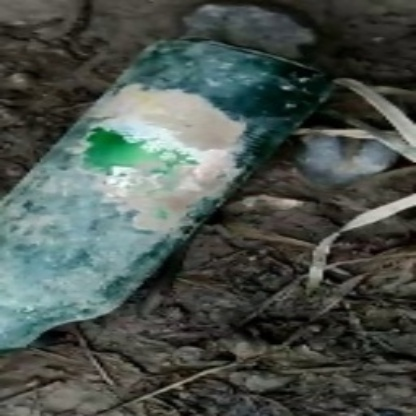bottle: (4, 31, 327, 356)
